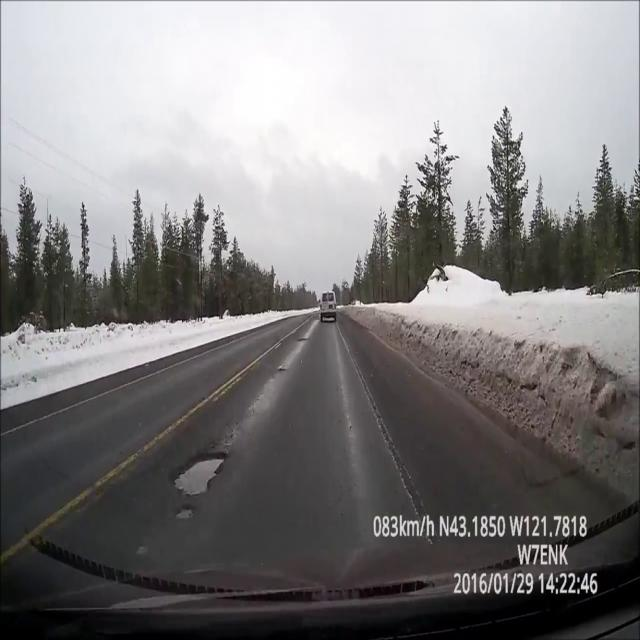Pothole: (166, 451, 228, 498), (169, 504, 200, 521), (296, 337, 308, 341), (277, 367, 286, 372)
